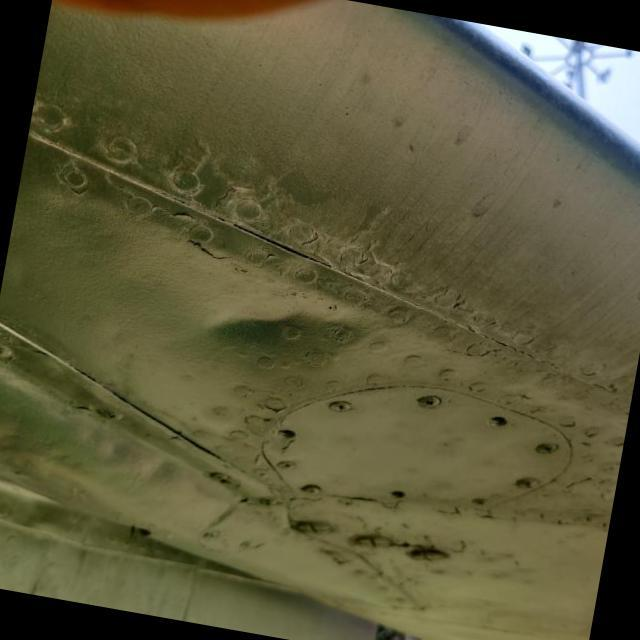Dent: (173, 248, 379, 411)
Fastener Damage: (467, 394, 524, 449), (258, 408, 312, 458), (374, 470, 421, 518)
